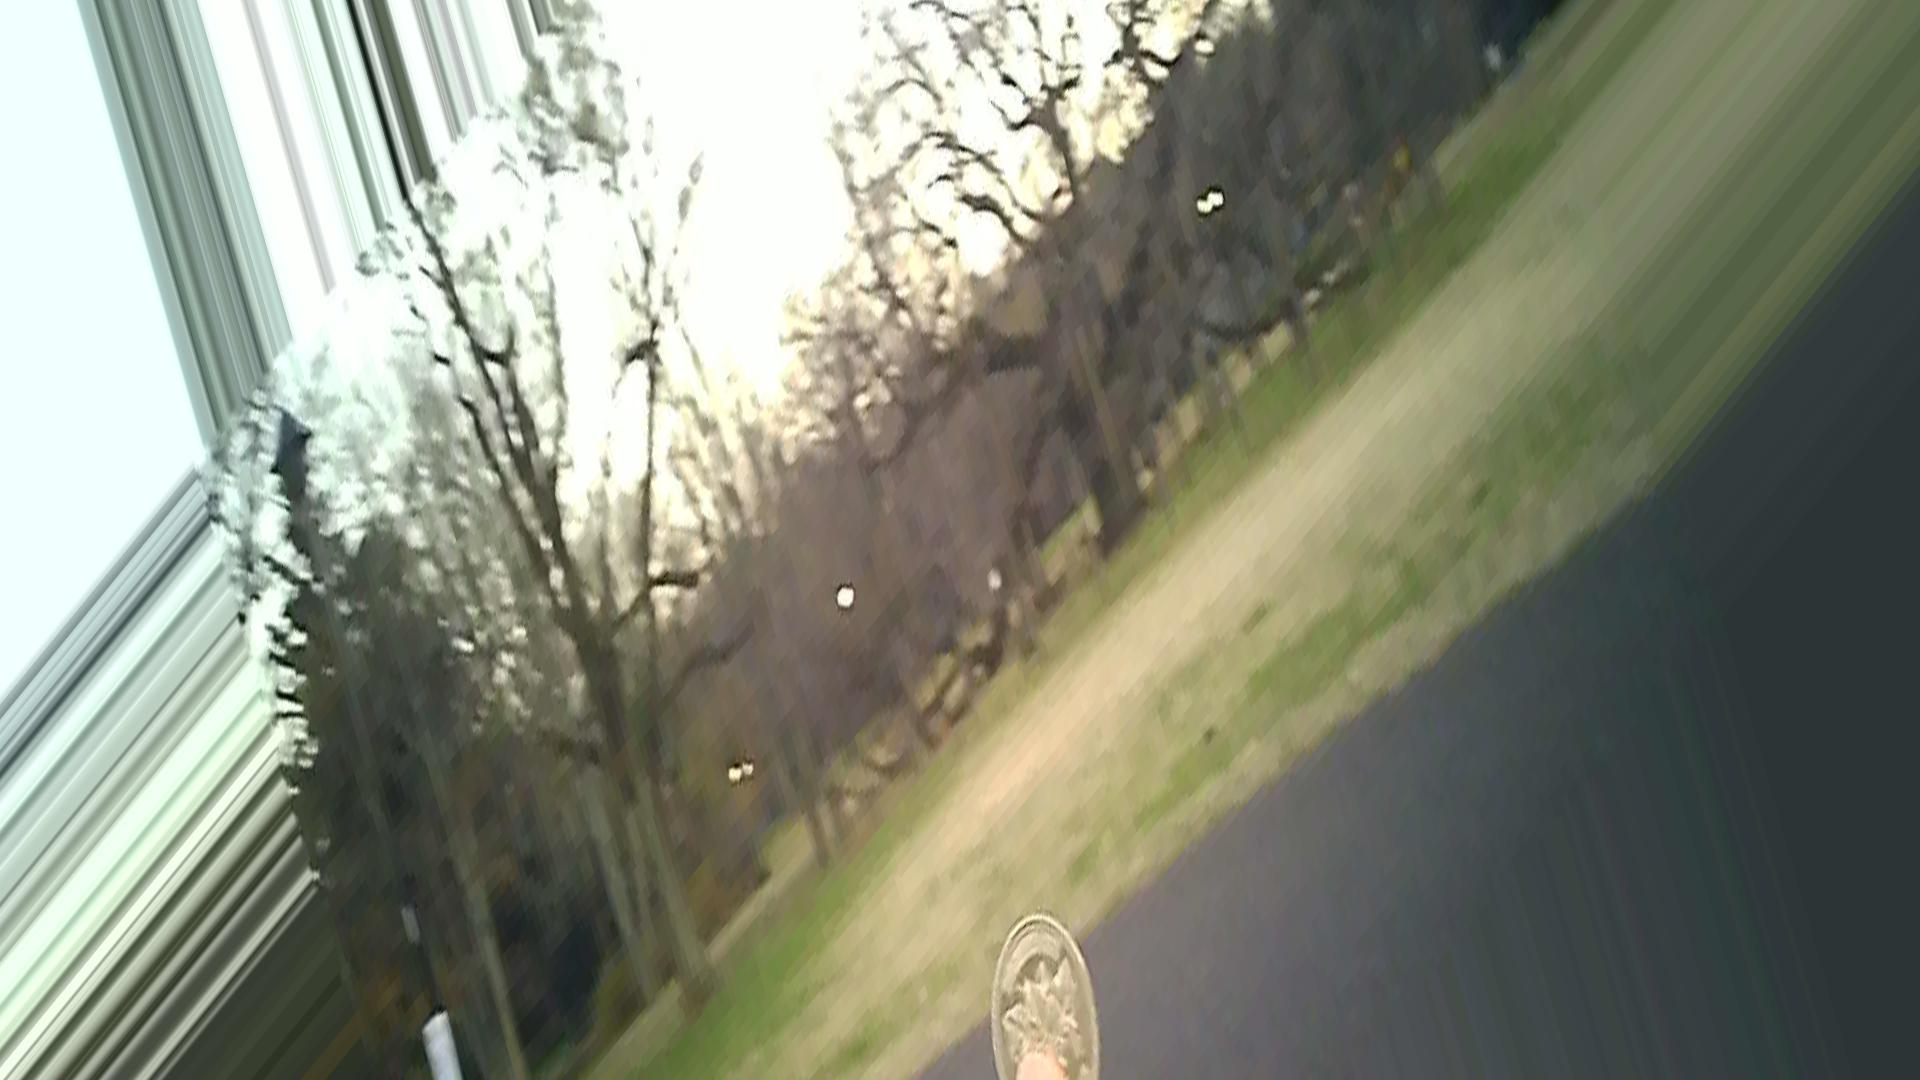500 Yen: (973, 916, 1121, 1079)
